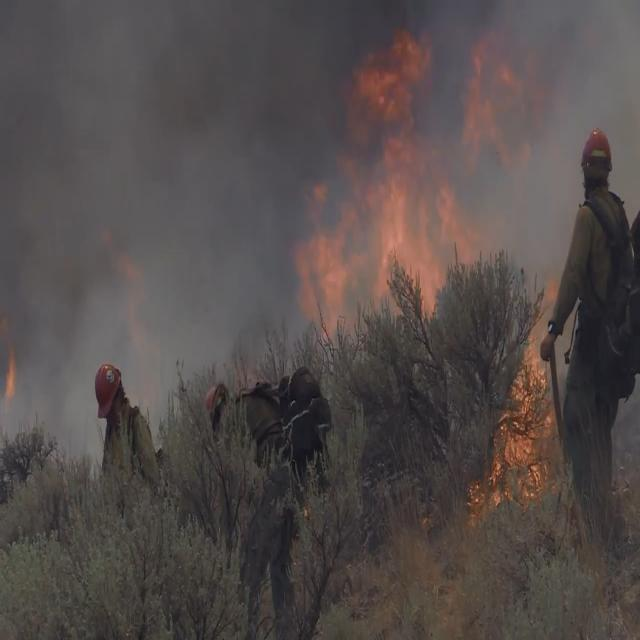Fire: (299, 28, 526, 309)
